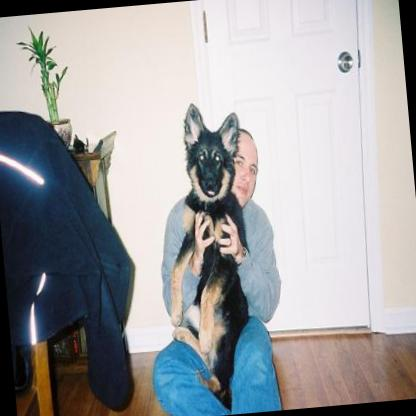German_shepherd: (150, 98, 264, 416)
